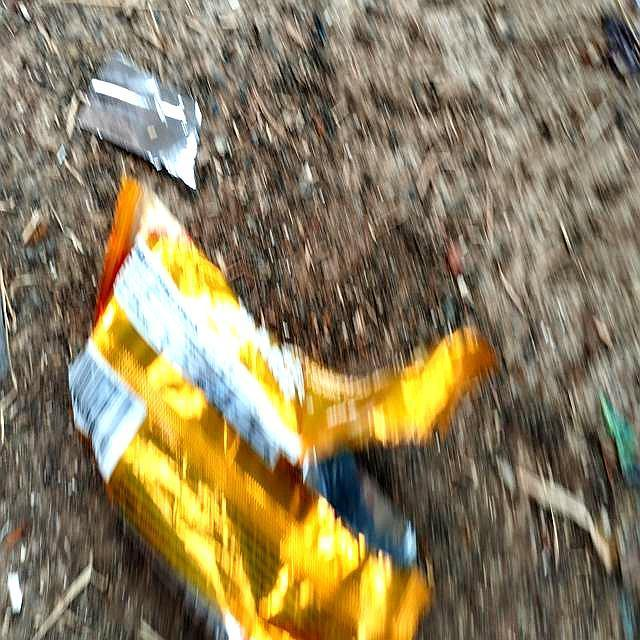Non-biodegradable: (53, 169, 503, 640)
